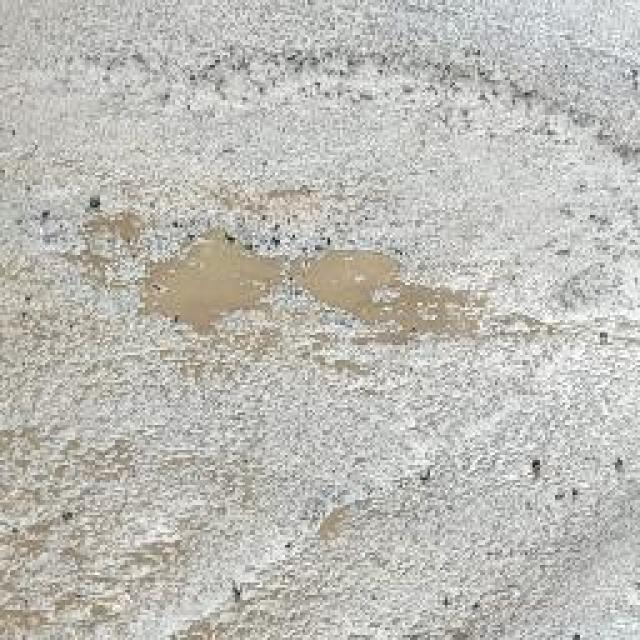stagnation: (93, 229, 564, 351)
